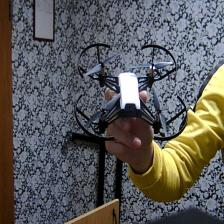drone: (69, 35, 191, 144)
